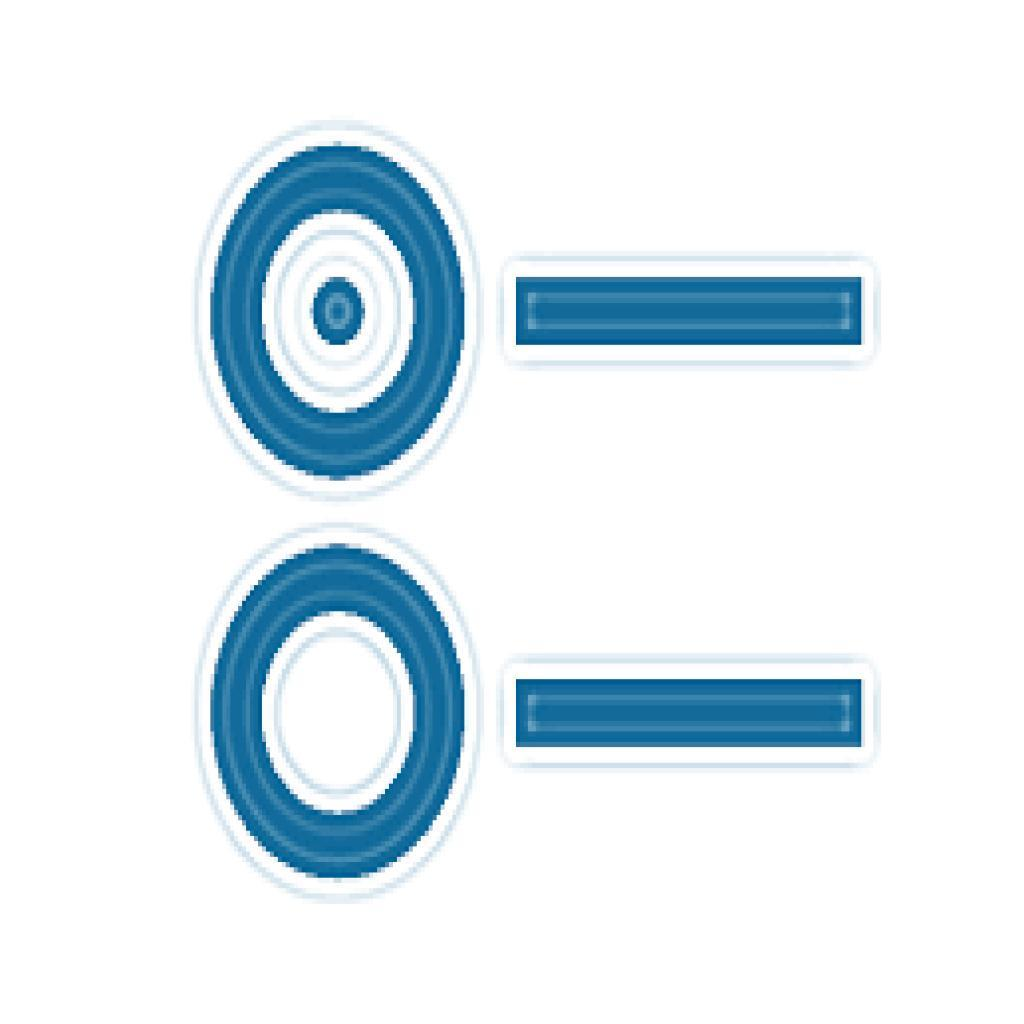radio: (198, 520, 480, 904), (192, 128, 484, 494)
